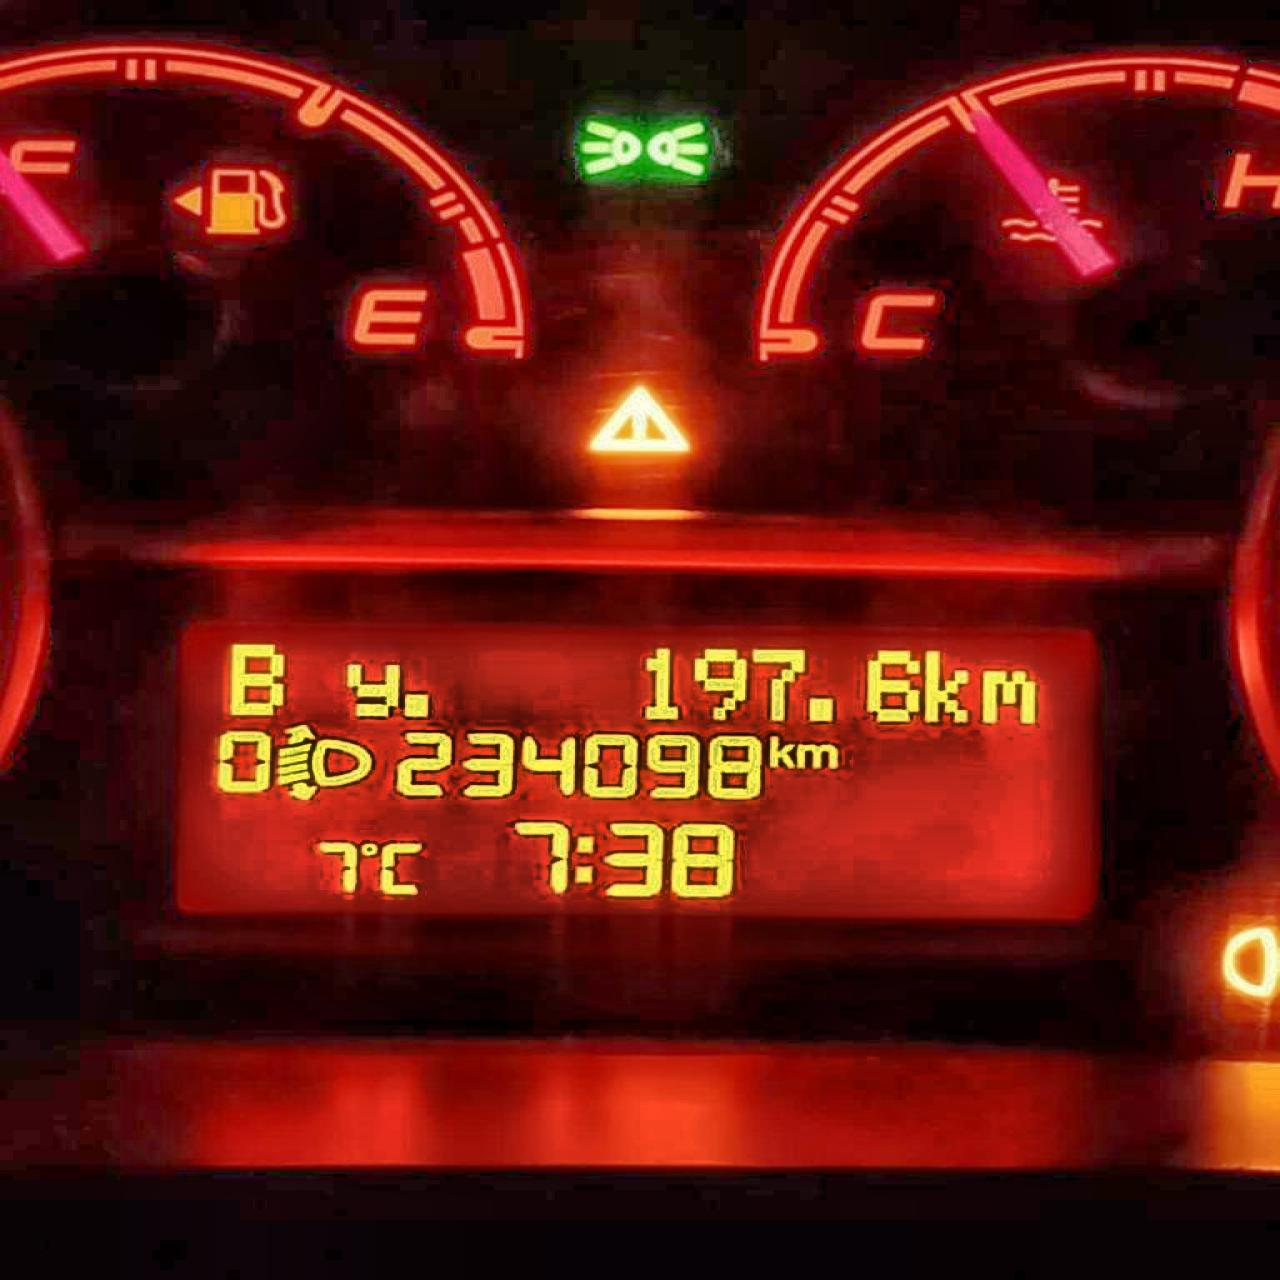-: (802, 694, 838, 726), (400, 689, 434, 719)
0: (580, 730, 636, 799), (217, 728, 272, 792)
1: (641, 642, 681, 726)
2: (395, 729, 451, 797)
3: (606, 821, 661, 898), (463, 729, 513, 797)
4: (518, 731, 574, 795)
6: (865, 645, 921, 724)
7: (750, 644, 809, 722), (510, 817, 570, 892), (315, 837, 356, 893)
8: (668, 821, 734, 899), (707, 733, 761, 798)
9: (689, 645, 748, 721), (645, 731, 699, 798)
X: (225, 639, 287, 717), (921, 646, 968, 723), (979, 666, 1036, 723), (343, 659, 399, 719), (380, 837, 423, 894), (572, 830, 597, 888), (795, 738, 838, 769), (764, 733, 794, 769)
odometer: (166, 615, 1098, 925)
